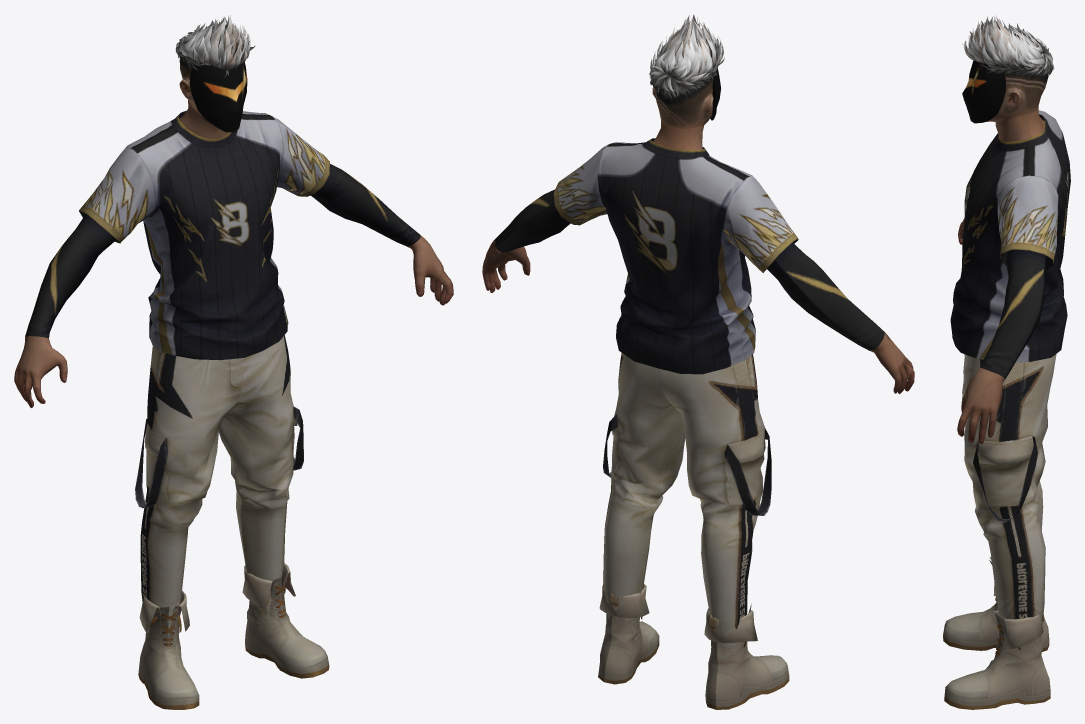
File: astral.glb
3 views of the same model, side by side, from view 1: azimuth 30°, elevation 25°; view 2: azimuth 150°, elevation 25°; view 3: azimuth 270°, elevation 25° (orthographic).
Parts seen in each view (by area): view 1: astral; view 2: astral; view 3: astral.
Part boxes in pixels (x1,y1,x2,y2): astral: (14, 15, 453, 709); astral: (482, 14, 914, 709); astral: (943, 15, 1070, 709).
Size of the model in its own units: 0.6333 by 0.9435 by 0.1666.
Materials: 6 (6 with a texture image).
